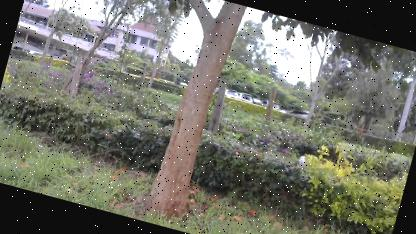tree: (126, 0, 252, 222)
